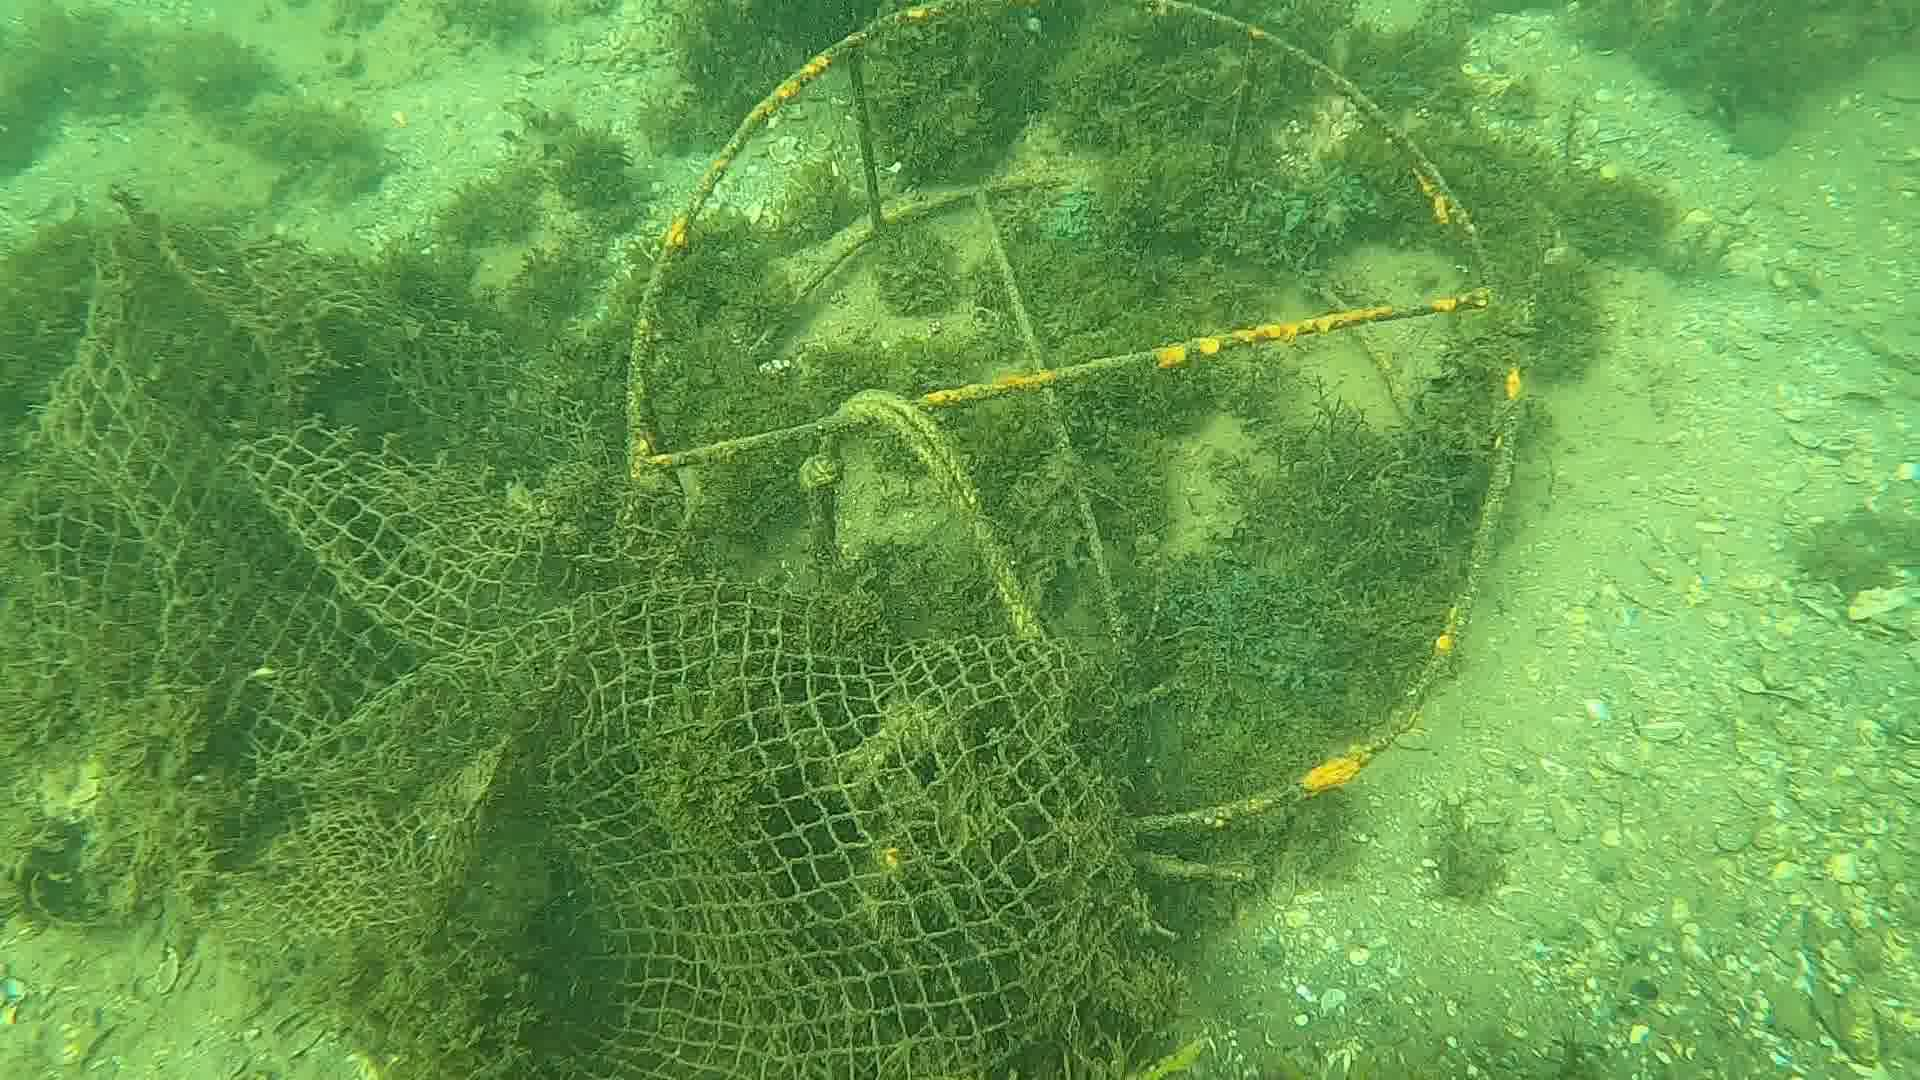bundle of ropes: (796, 386, 1040, 636)
fish net: (3, 225, 1127, 1080)
